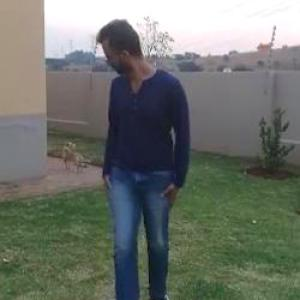follow: (90, 13, 191, 299)
